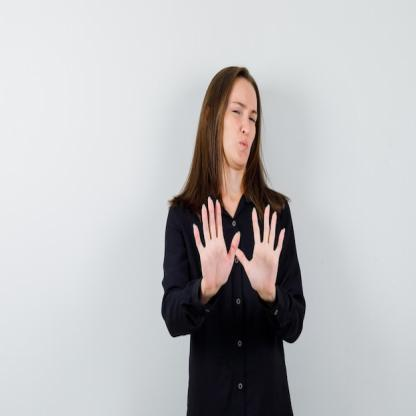stop: (232, 202, 288, 304), (191, 194, 242, 302)
